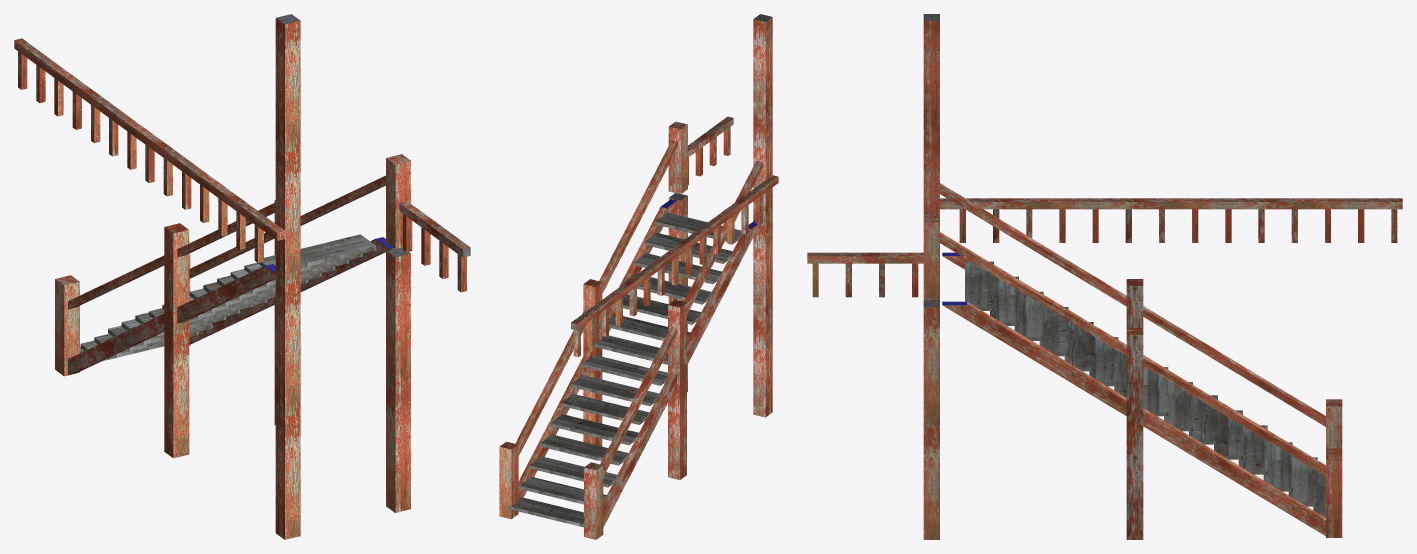
Rendered from redstair2.fbx.
3 renders of one model, left to right at view 1: azimuth 30°, elevation 25°; view 2: azimuth 150°, elevation 25°; view 3: azimuth 270°, elevation 25°, orthographic. The views are drawn at different scales.
Parts seen in each view (by area): view 1: redstair2; view 2: redstair2; view 3: redstair2.
Part boxes in pixels (<box>): redstair2: <box>14,14,470,539</box>; redstair2: <box>499,14,778,539</box>; redstair2: <box>807,14,1402,539</box>.
Bounding box in the file's own units: 13601 × 50000 × 57400.
